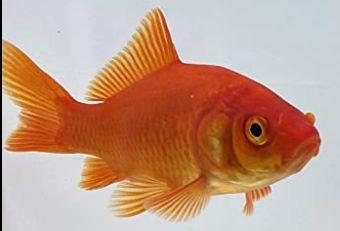Gold Fish: (3, 8, 322, 224)
